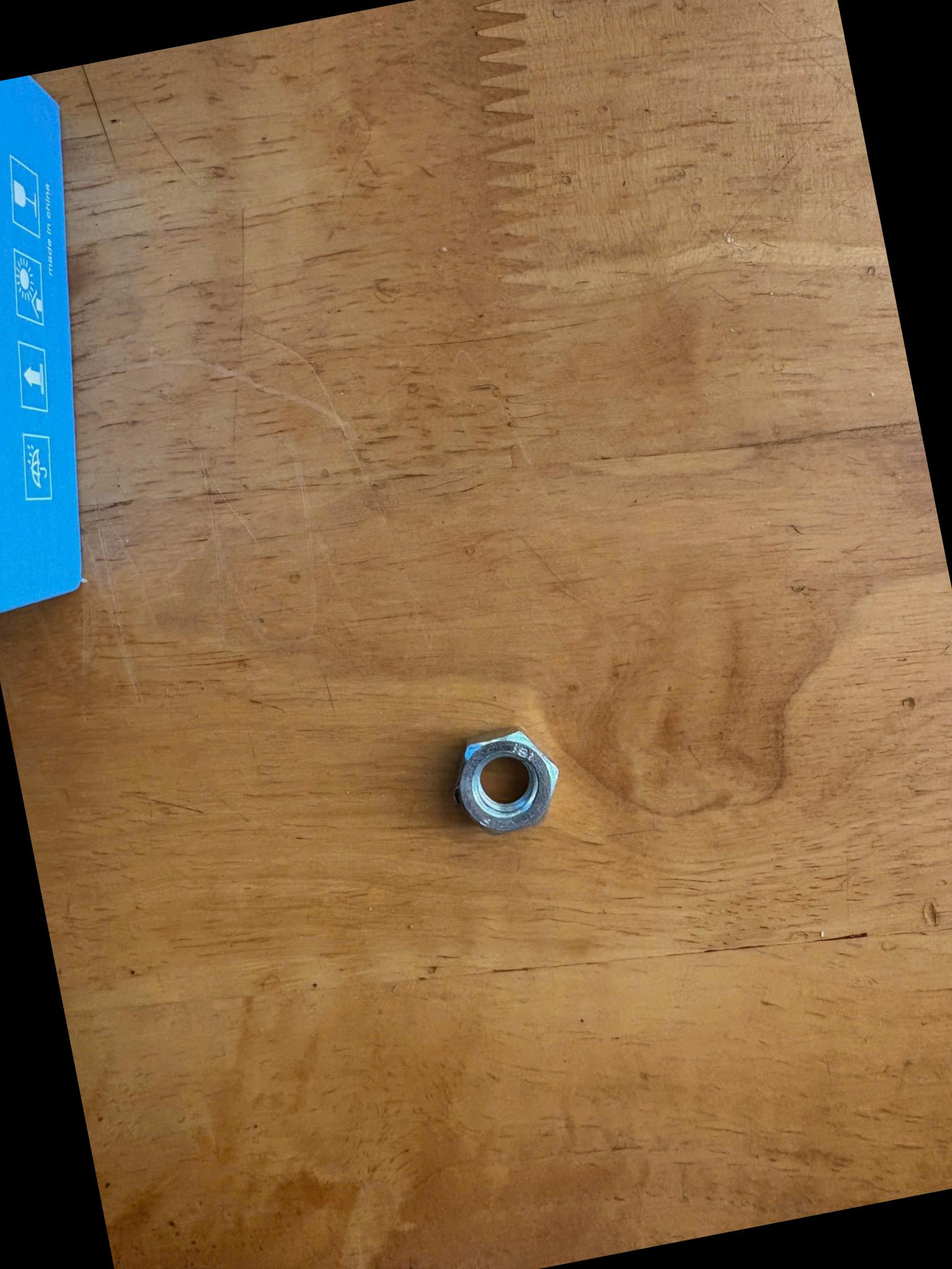nut: (432, 708, 579, 864)
